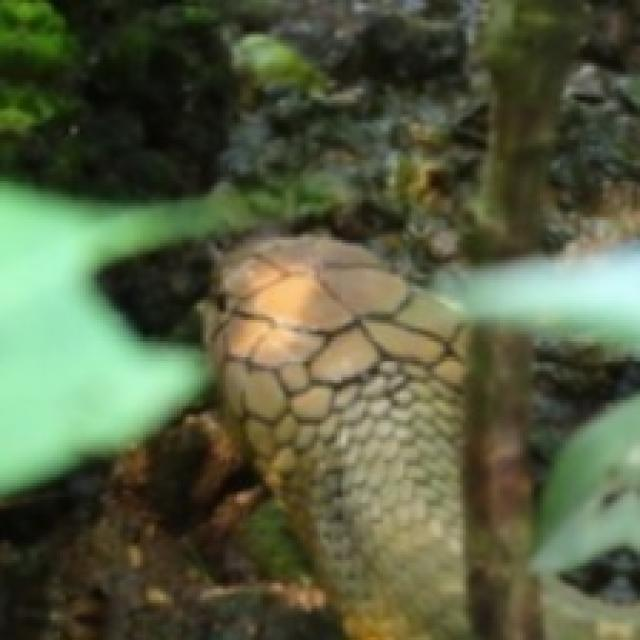king cobra: (206, 237, 540, 637)
